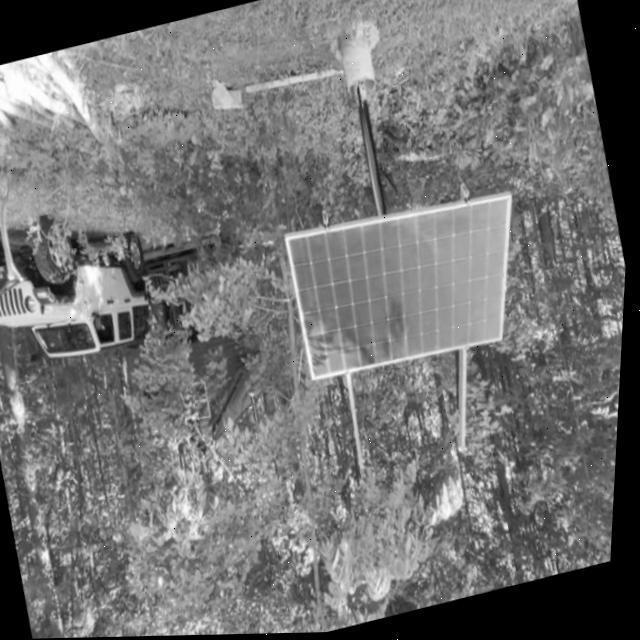Normal Solar Panel: (282, 180, 546, 390)
